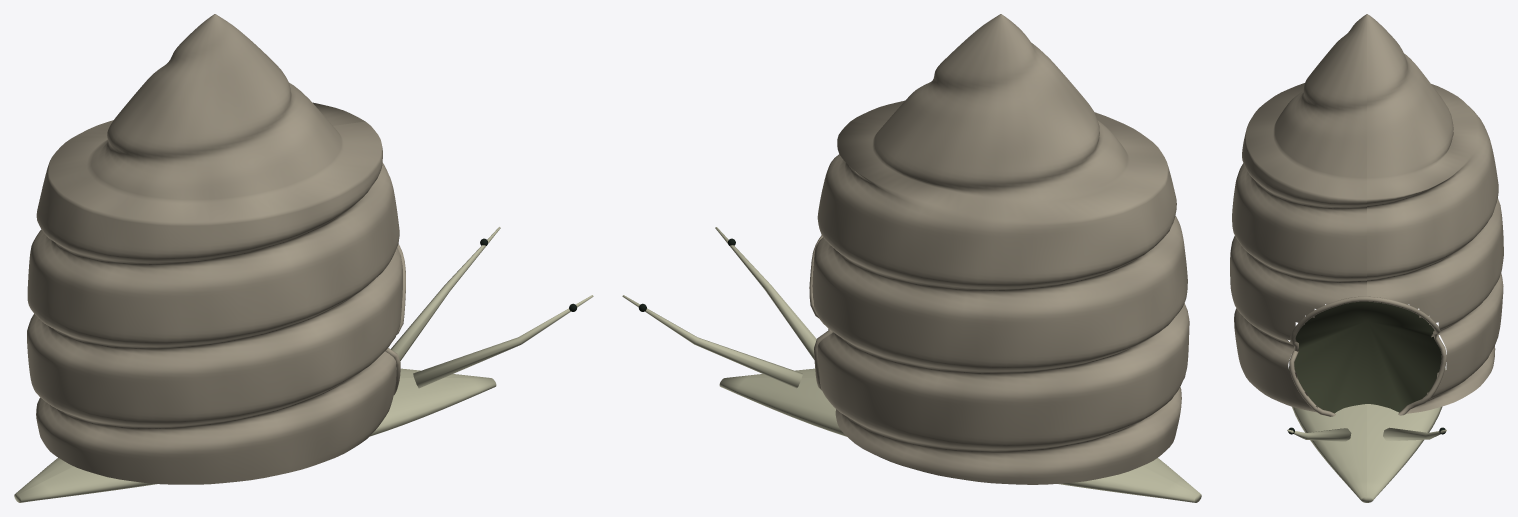
File: nassarius-desktop.glb
The picture shows the model from 3 angles, left to right: view 1: azimuth 30°, elevation 25°; view 2: azimuth 150°, elevation 25°; view 3: azimuth 270°, elevation 25°; orthographic projection. The views are drawn at different scales.
Parts seen in each view (by area): view 1: connected-whorled-shell, muscular-foot, cephalic-tentacle; view 2: connected-whorled-shell, muscular-foot, cephalic-tentacle; view 3: connected-whorled-shell, recessed-aperture, muscular-foot, aperture-lip, cephalic-tentacle.
Part boxes in pixels (left/top/right/bottom): connected-whorled-shell: left=27, top=14, right=402, bottom=484; muscular-foot: left=14, top=368, right=496, bottom=502; cephalic-tentacle: left=391, top=227, right=593, bottom=388; connected-whorled-shell: left=812, top=14, right=1189, bottom=484; muscular-foot: left=719, top=368, right=1201, bottom=502; cephalic-tentacle: left=622, top=227, right=816, bottom=388; connected-whorled-shell: left=1230, top=14, right=1503, bottom=413; recessed-aperture: left=1294, top=301, right=1441, bottom=413; muscular-foot: left=1288, top=366, right=1445, bottom=502; aperture-lip: left=1289, top=296, right=1446, bottom=416; cephalic-tentacle: left=1287, top=427, right=1446, bottom=441.
Bounding box in the file's own units: 0.5905 × 0.469 × 0.3117.
